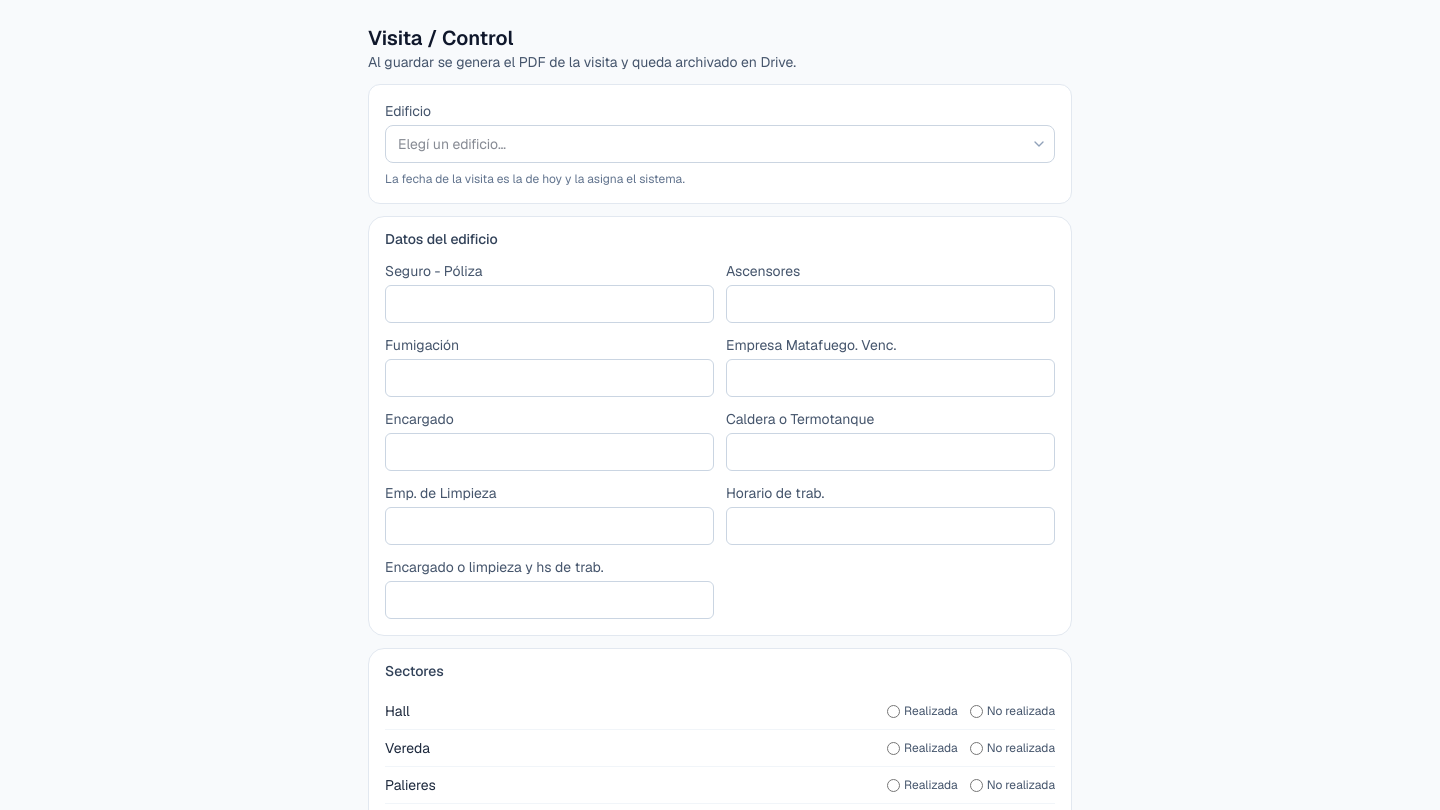
Scenario: VisitaForm › al guardar muestra el modal con las acciones sobre el PDF, sin navegar todavía
Click the dropdown labelled "Edificio": click(720, 144) [385, 125, 1055, 163]
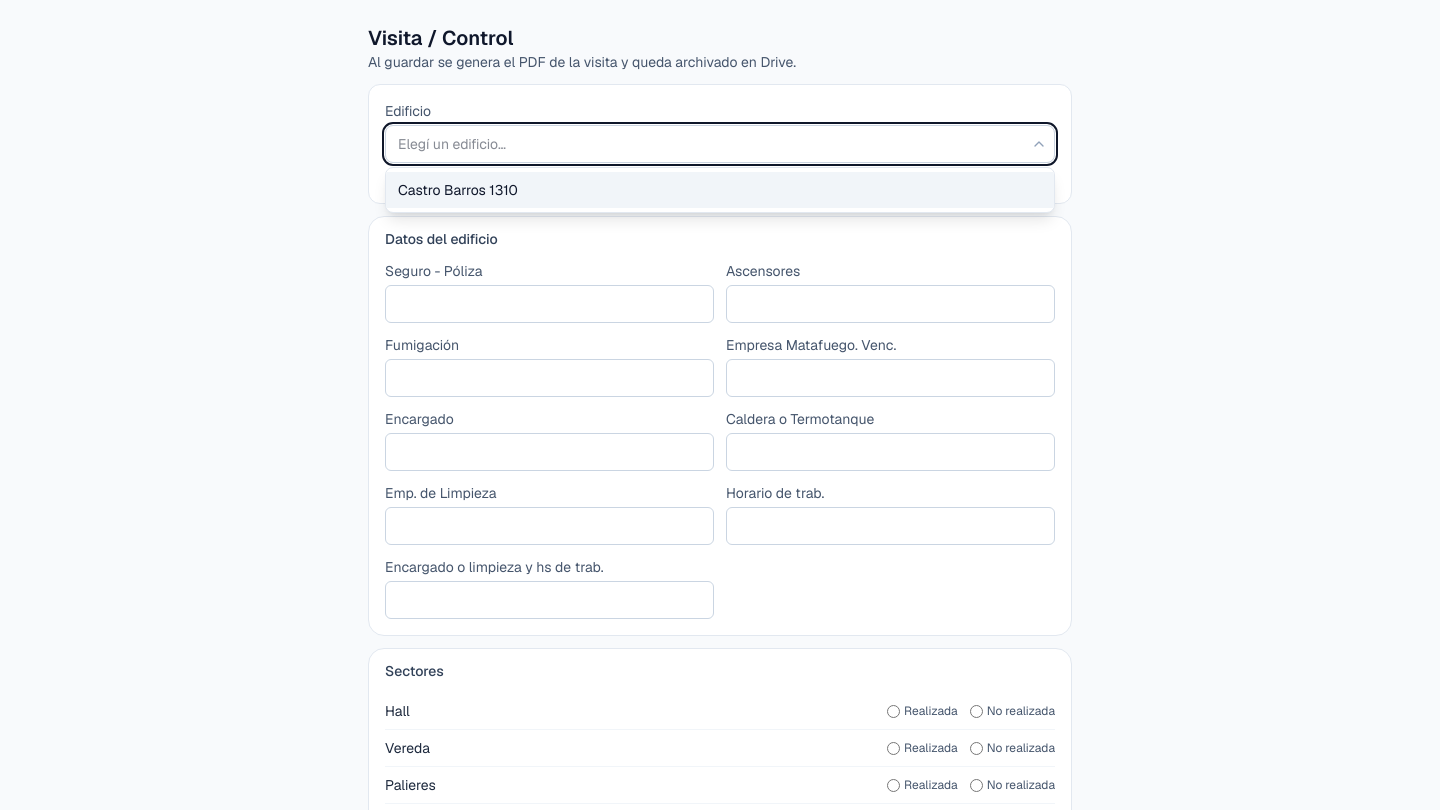
Click the option "Castro Barros 1310": click(458, 190) [386, 172, 1054, 208]
(page scrolled)
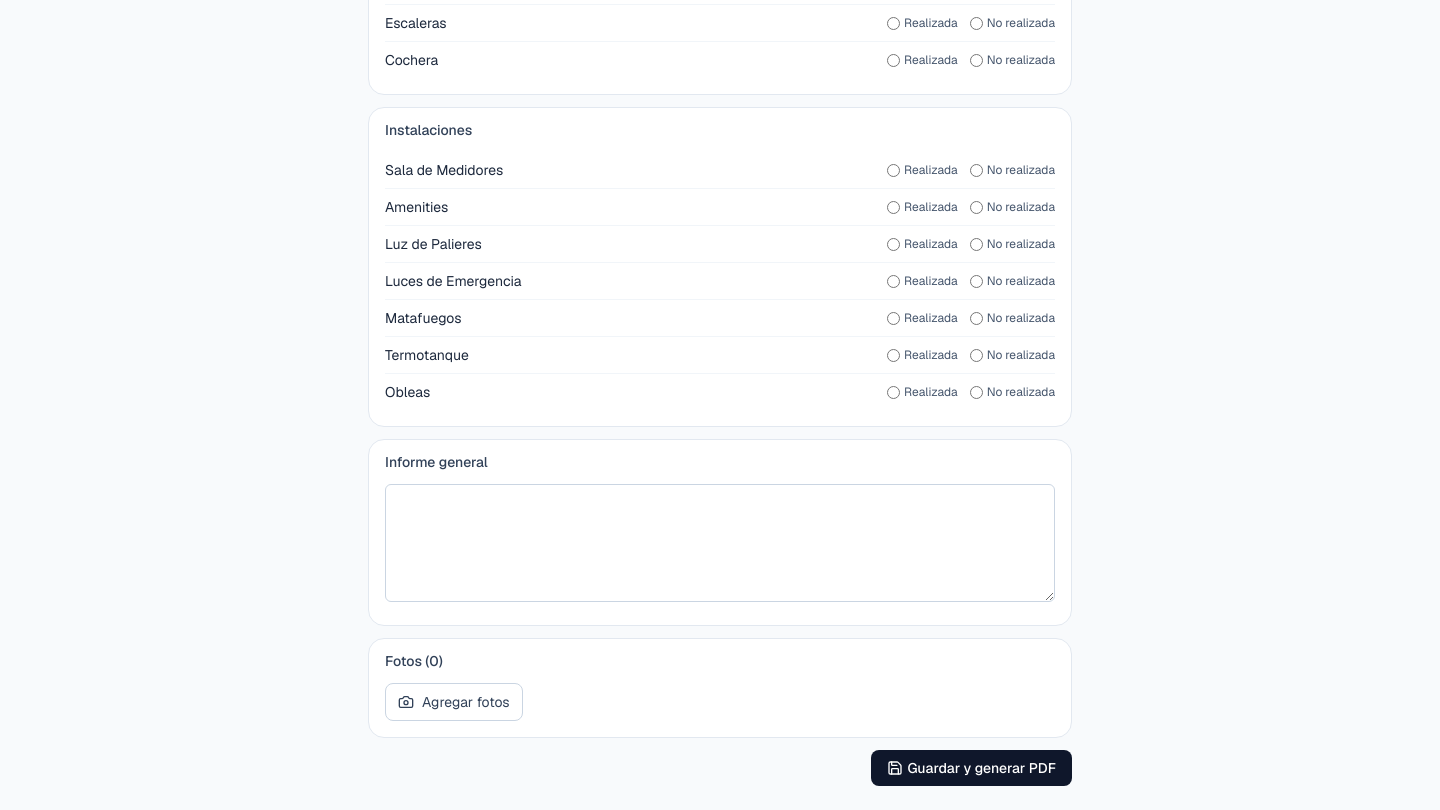
Click the button "Guardar y generar PDF": click(972, 768) [871, 750, 1072, 786]
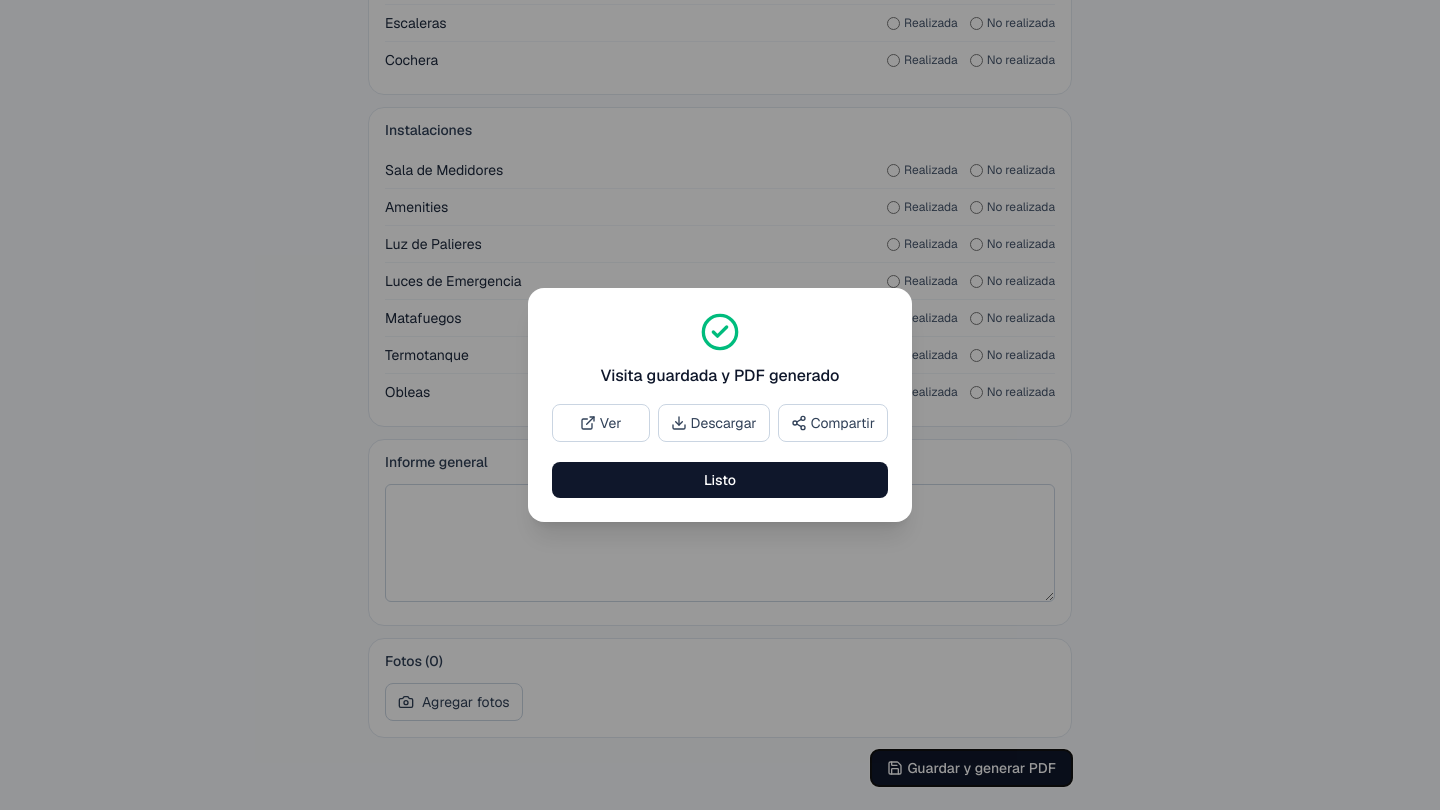
Result: the text "Visita guardada y PDF generado" is shown at [601, 365, 839, 386]
Result: the button with aria-label "compartir pdf" is shown at [778, 404, 888, 442]
